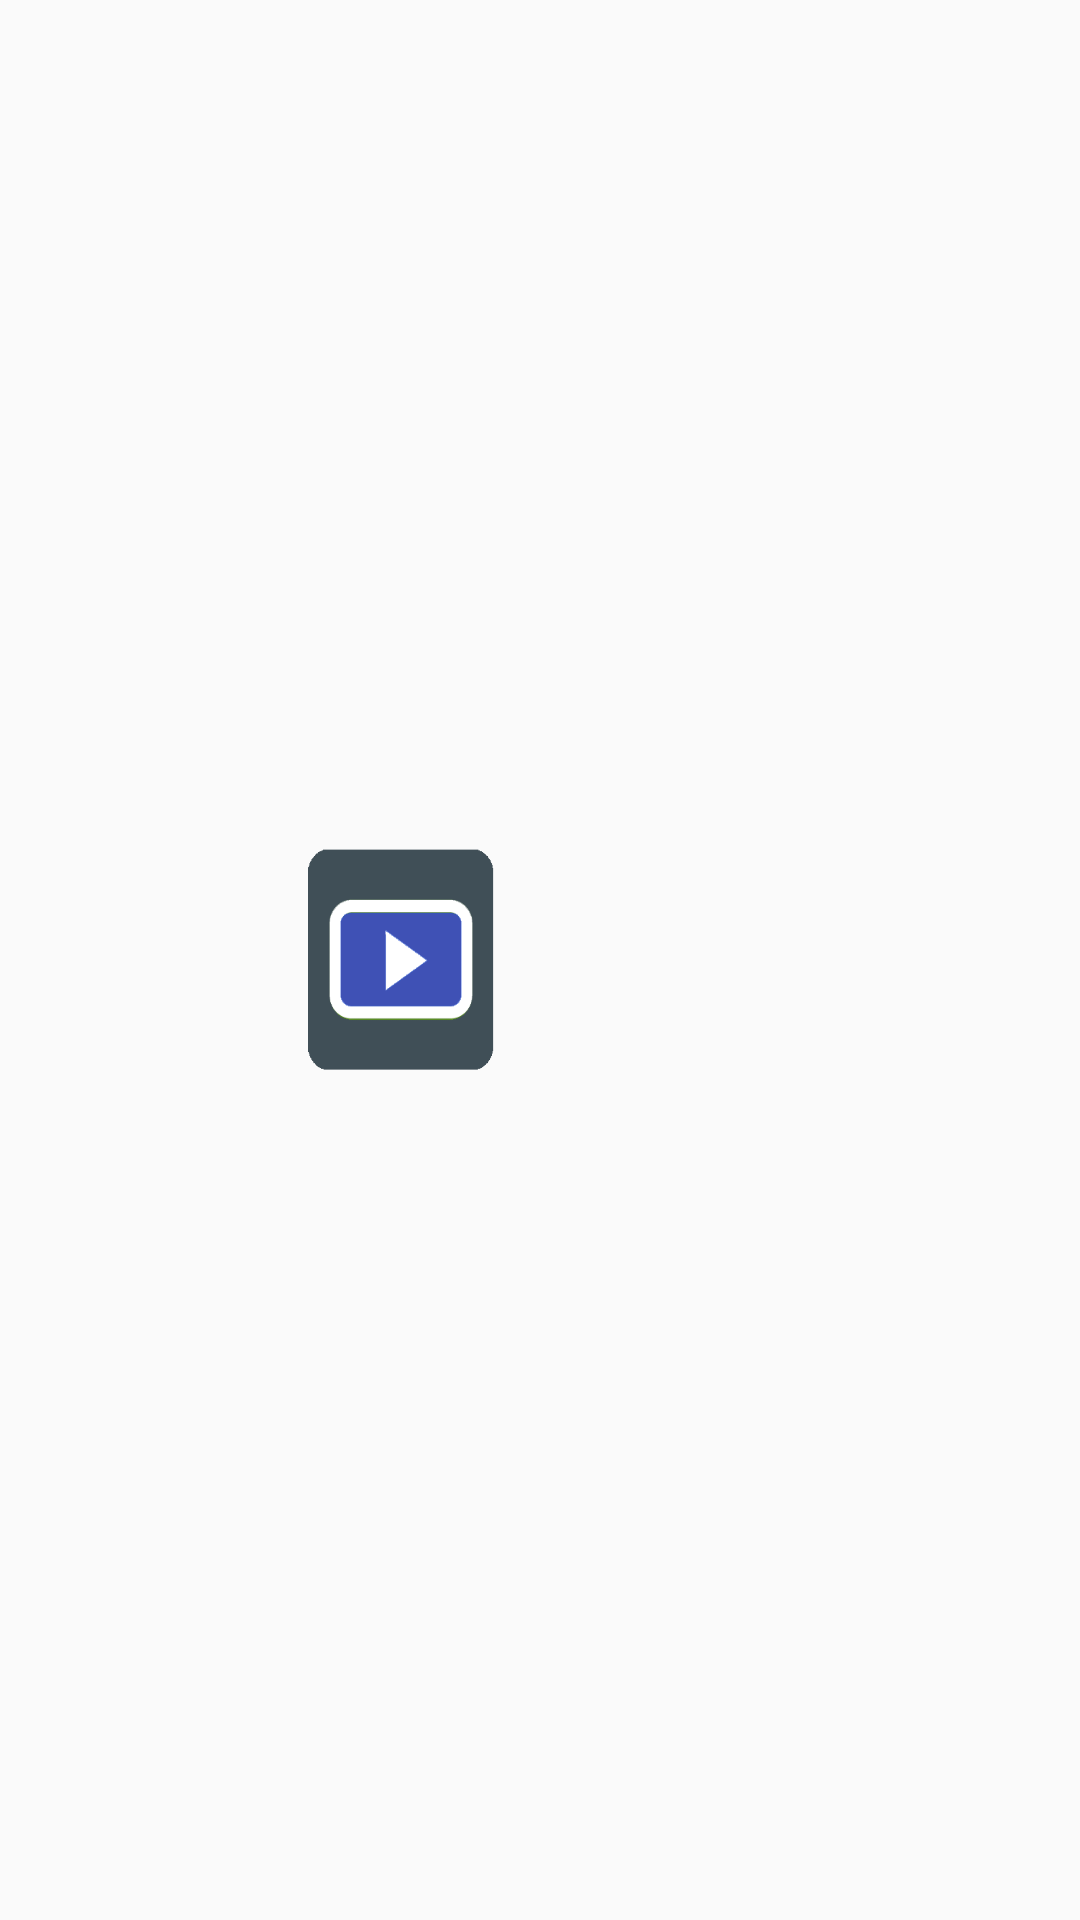

Named icons in this screenshot (1080w x 1920h) and their bounding boxes, (x1, y1, x2, y2):
vedio: (308, 849, 493, 1070)
